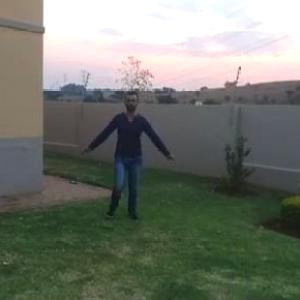land: (80, 85, 185, 219)
